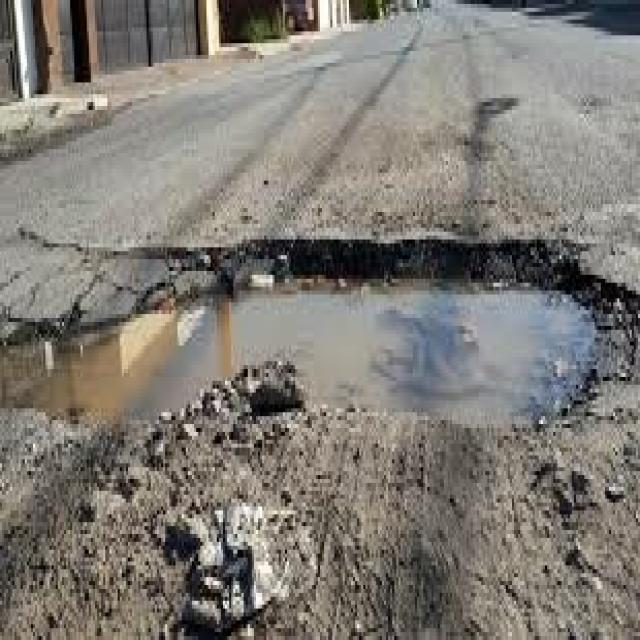Pothole: (20, 220, 628, 557)
